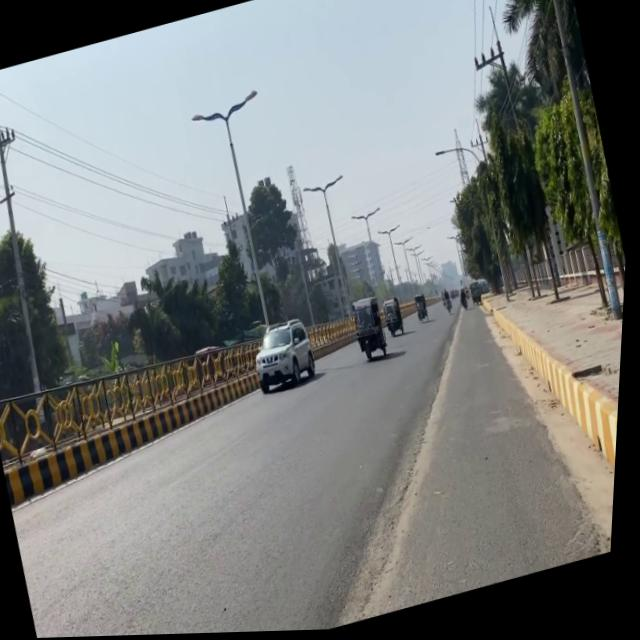Broken-road: (231, 299, 350, 419)
Construction-barrier: (0, 374, 281, 519), (483, 310, 627, 577)
Fallen-tree: (445, 299, 457, 317)
Garbage: (349, 296, 395, 365)
Light-pole: (514, 0, 640, 327)
Motorcycle: (574, 365, 608, 384)
Pole: (0, 312, 294, 525)
Pothole: (404, 254, 629, 595)
Traffic-cone: (382, 297, 409, 340), (415, 294, 433, 324)
